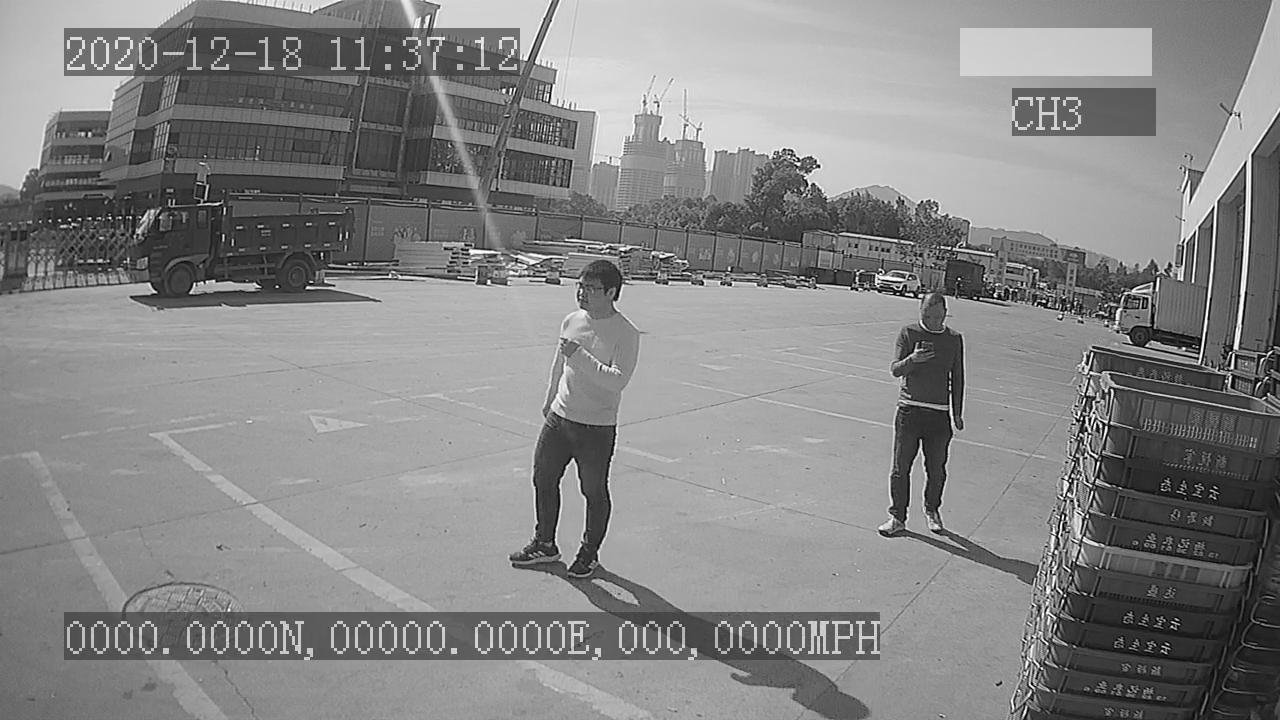person: (507, 260, 652, 576), (880, 284, 969, 551)
